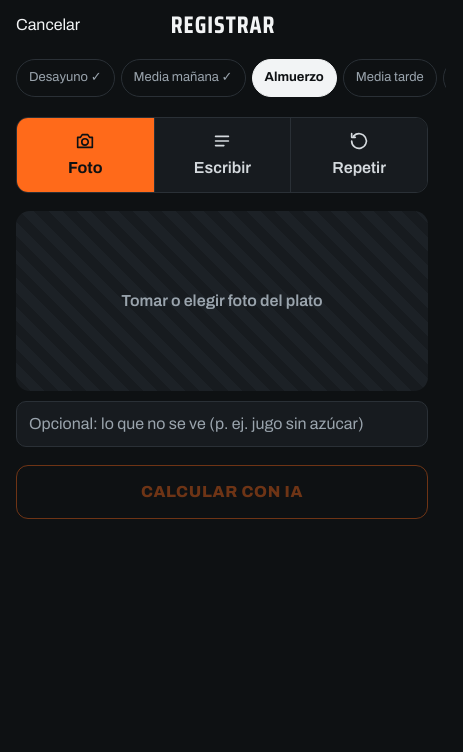
FormRegistrar › dentro de Repetir se puede agregar algo distinto con la IA
The image size is (463, 752).
Click the tab "Repetir" at (359, 154), box [290, 118, 427, 192]
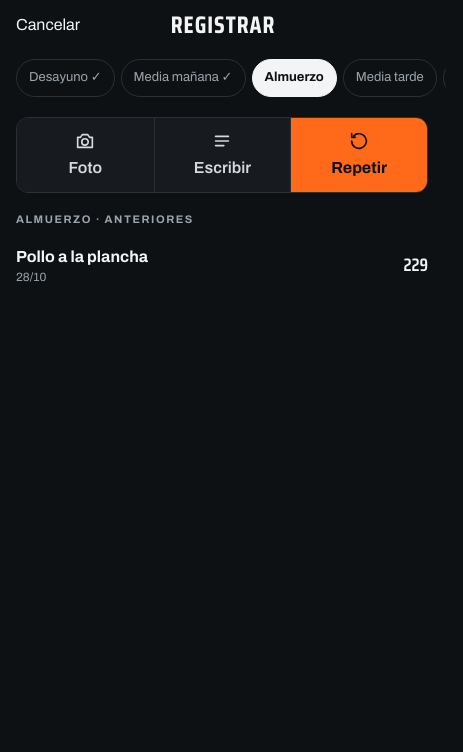
Click the button "Pollo a la plancha 28/10 229" at (82, 256), box [16, 233, 428, 297]
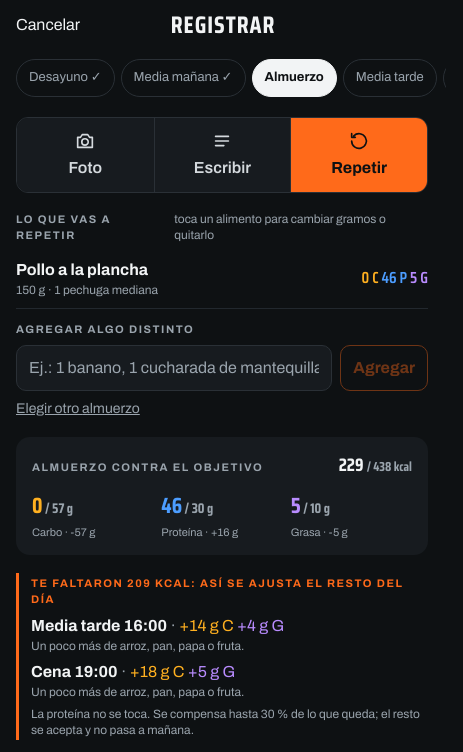
Type "1 banano" into the field labelled "Agregar algo distinto" at (174, 368), box [16, 345, 332, 391]
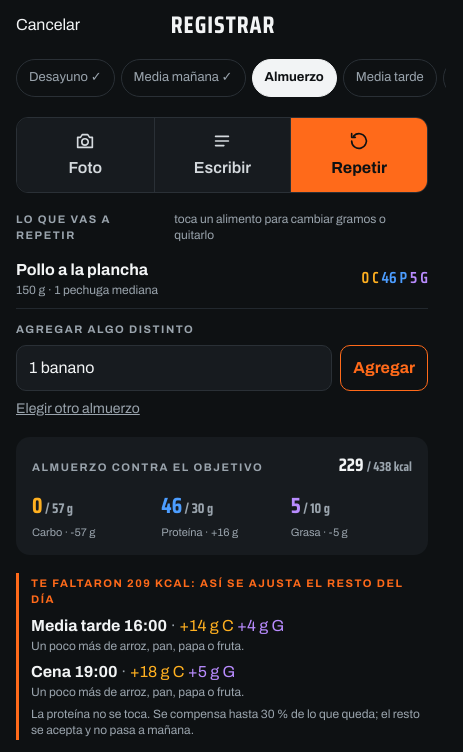
Click the button "Agregar" at (384, 368), box [340, 345, 428, 391]
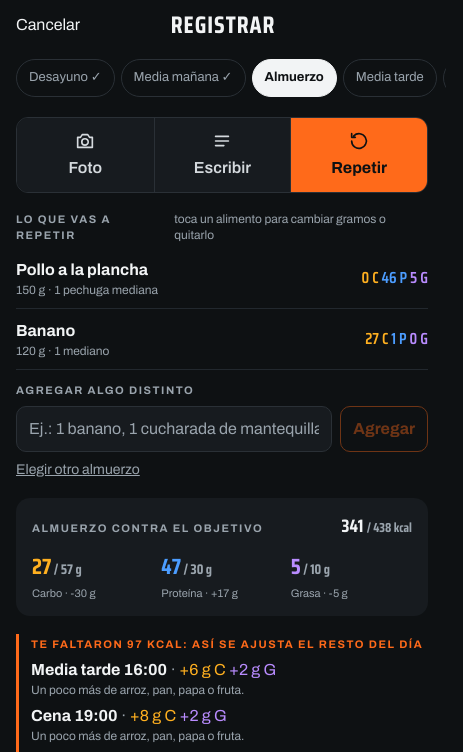
Check: the text "Pollo a la plancha" is shown, box [16, 258, 158, 282]
Check: the text "Banano" is shown, box [16, 322, 75, 338]
